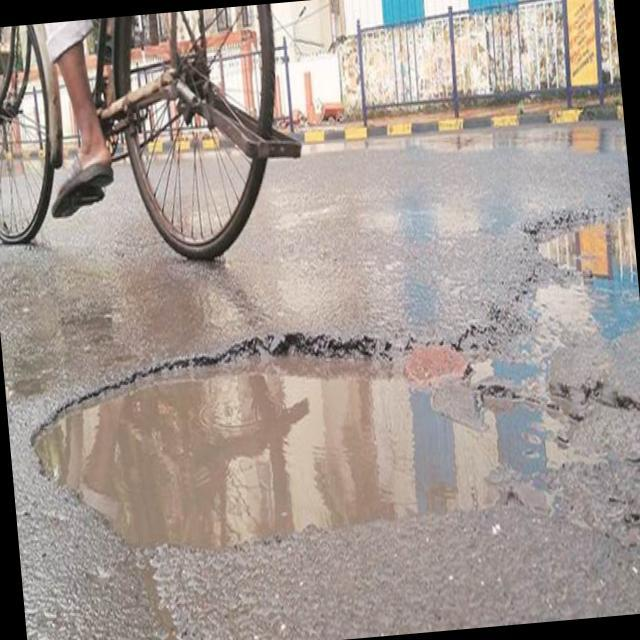Pothole: (14, 297, 522, 608), (521, 200, 640, 587)
